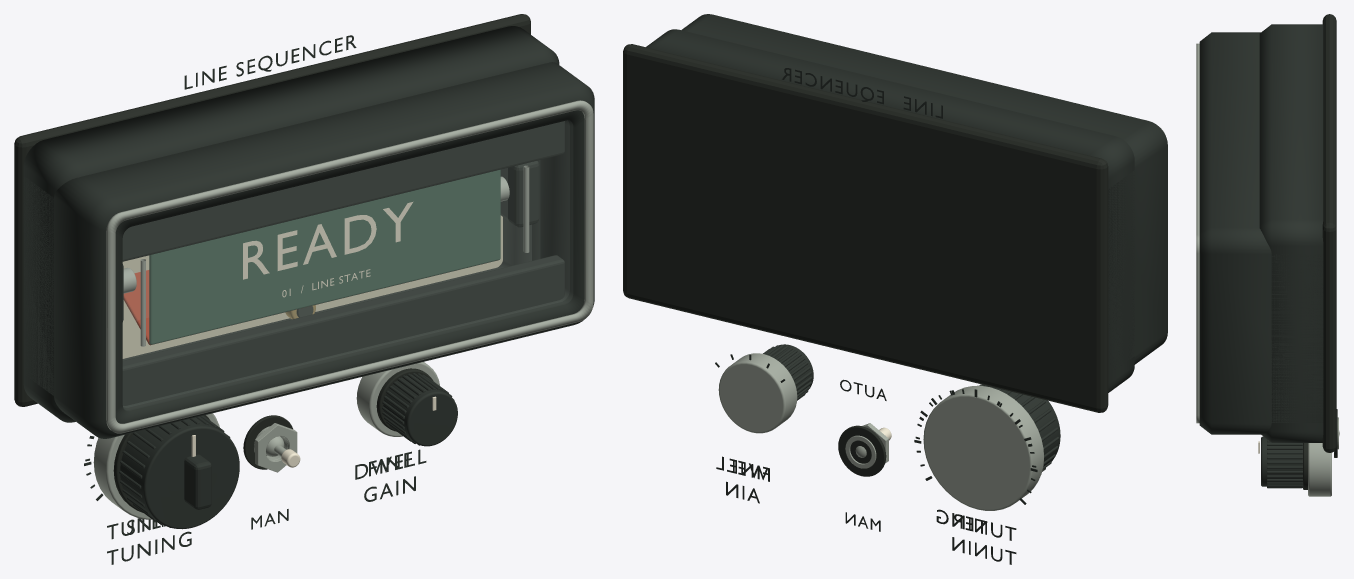
The model's file is instrument-studies.glb.
3 views of the same model, side by side, from view 1: azimuth 30°, elevation 25°; view 2: azimuth 150°, elevation 25°; view 3: azimuth 270°, elevation 25° (orthographic). The views are drawn at different scales.
Parts seen in each view (by area): view 1: StatusHousing, SignalHousing, StatusPanel0, StatusLowerShroud, StatusTopShroud, StatusRetainingRim, SignalTuningCap, SignalGasket, TuningGasket, SignalBack, StatusWord0, TuningHousing (+11 smaller); view 2: SignalGasket, StatusGasket, TuningGasket, StatusHousing, SignalHousing, SignalTuningSeat, SignalGainSeat, StatusStepSeat, SignalSweepGasket, SignalTuningCap, StatusSpeedSeat, StatusTitle; view 3: StatusHousing, SignalHousing, SignalGasket, TuningGasket, StatusRetainingRim, SignalGainSeat, SignalGainCap, StatusGasket, SignalGainWasher.
Part boxes in pixels (x1=…): StatusHousing: x1=23, y1=62, x2=594, y2=438; SignalHousing: x1=23, y1=26, x2=559, y2=422; StatusPanel0: x1=149, y1=169, x2=500, y2=344; StatusLowerShroud: x1=122, y1=255, x2=564, y2=405; StatusTopShroud: x1=122, y1=121, x2=564, y2=261; StatusRetainingRim: x1=106, y1=100, x2=593, y2=433; SignalTuningCap: x1=120, y1=416, x2=239, y2=529; SignalGasket: x1=14, y1=14, x2=530, y2=406; TuningGasket: x1=27, y1=15, x2=520, y2=404; SignalBack: x1=122, y1=215, x2=502, y2=358; StatusWord0: x1=243, y1=201, x2=413, y2=279; TuningHousing: x1=122, y1=160, x2=539, y2=360; SignalGasket: x1=623, y1=44, x2=1108, y2=412; StatusGasket: x1=623, y1=62, x2=1108, y2=398; TuningGasket: x1=632, y1=45, x2=1095, y2=411; StatusHousing: x1=681, y1=14, x2=1167, y2=369; SignalHousing: x1=646, y1=29, x2=1134, y2=392; SignalTuningSeat: x1=923, y1=385, x2=1043, y2=510; SignalGainSeat: x1=718, y1=353, x2=797, y2=433; StatusStepSeat: x1=945, y1=418, x2=1001, y2=487; SignalSweepGasket: x1=838, y1=425, x2=886, y2=476; SignalTuningCap: x1=983, y1=385, x2=1060, y2=466; StatusSpeedSeat: x1=723, y1=367, x2=780, y2=429; StatusTitle: x1=782, y1=68, x2=942, y2=118; StatusHousing: x1=1199, y1=32, x2=1323, y2=434; SignalHousing: x1=1259, y1=24, x2=1323, y2=442; SignalGasket: x1=1322, y1=14, x2=1336, y2=452; TuningGasket: x1=1323, y1=17, x2=1332, y2=224; StatusRetainingRim: x1=1196, y1=43, x2=1199, y2=423; SignalGainSeat: x1=1308, y1=443, x2=1331, y2=496; SignalGainCap: x1=1261, y1=436, x2=1302, y2=486; StatusGasket: x1=1323, y1=240, x2=1336, y2=440; SignalGainWasher: x1=1303, y1=443, x2=1307, y2=489.
Size of the model in its own units: 2.53 by 2.21 by 0.715.
